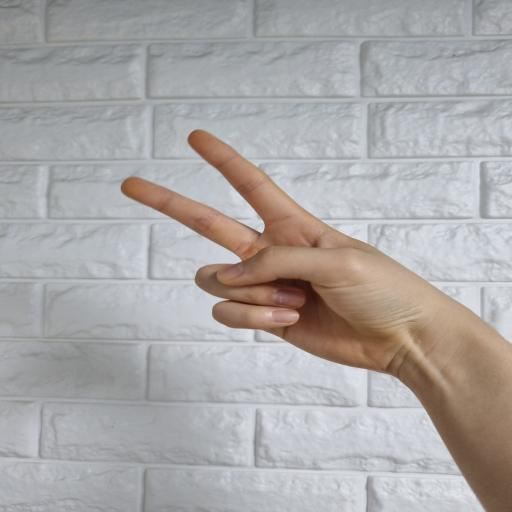Scissors: (108, 125, 433, 371)
